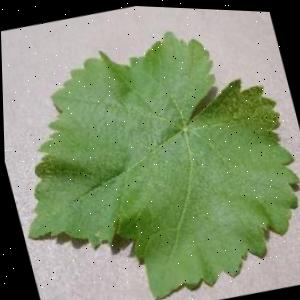Folha: (0, 1, 300, 300)
